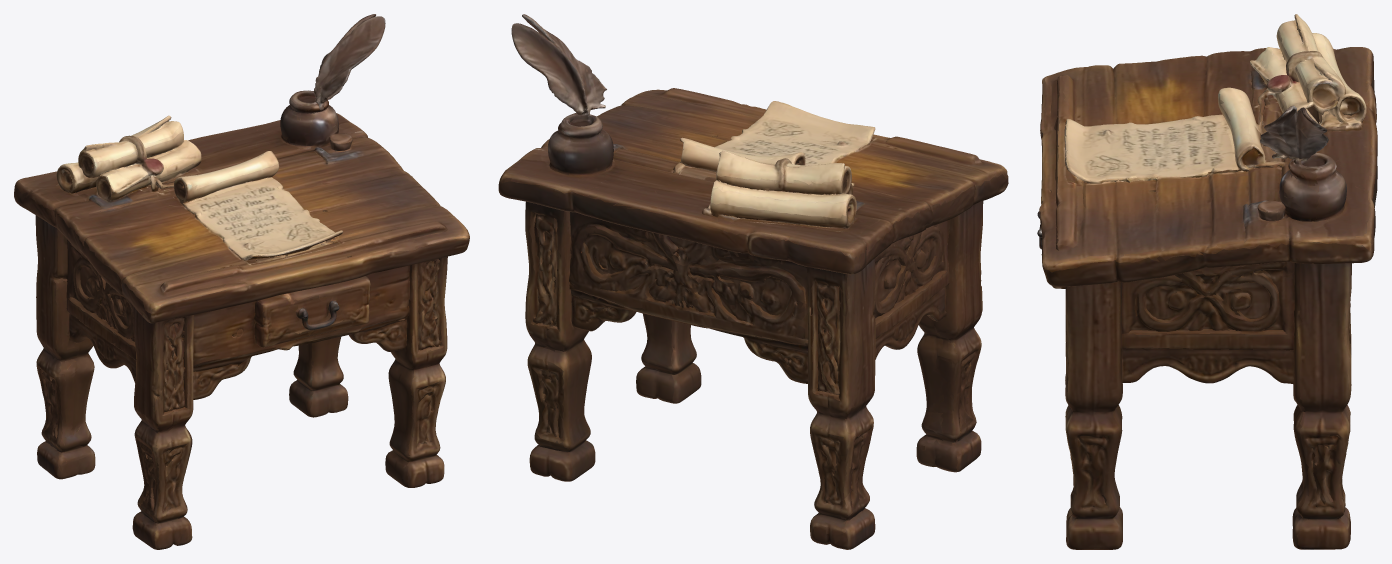
Rendered from desk.glb.
The picture shows the model from 3 angles, left to right: view 1: azimuth 30°, elevation 25°; view 2: azimuth 150°, elevation 25°; view 3: azimuth 270°, elevation 25°; orthographic projection. The views are drawn at different scales.
Parts seen in each view (by area): view 1: geometry_0; view 2: geometry_0; view 3: geometry_0.
Part boxes in pixels (x1,y1,x2,y2): geometry_0: [14, 14, 469, 549]; geometry_0: [498, 14, 1008, 549]; geometry_0: [1037, 14, 1377, 549].
Size of the model in its own units: 0.9 by 0.9888 by 0.665.
1 material, 1 textured.
